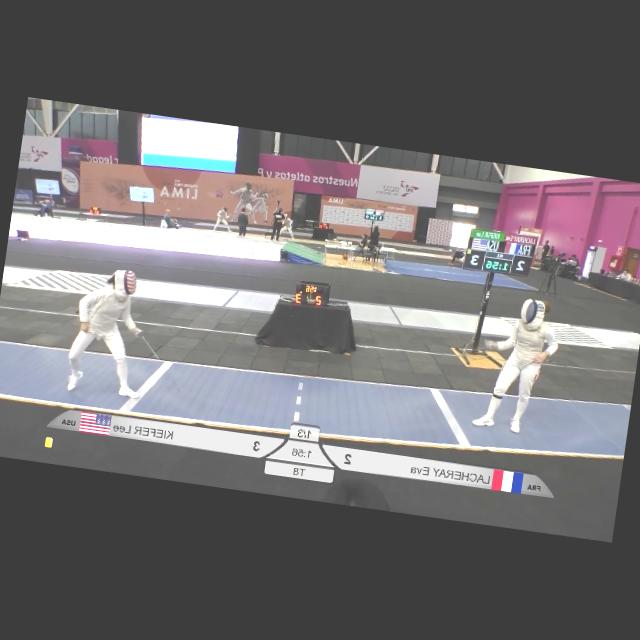blade: (126, 328, 192, 396)
